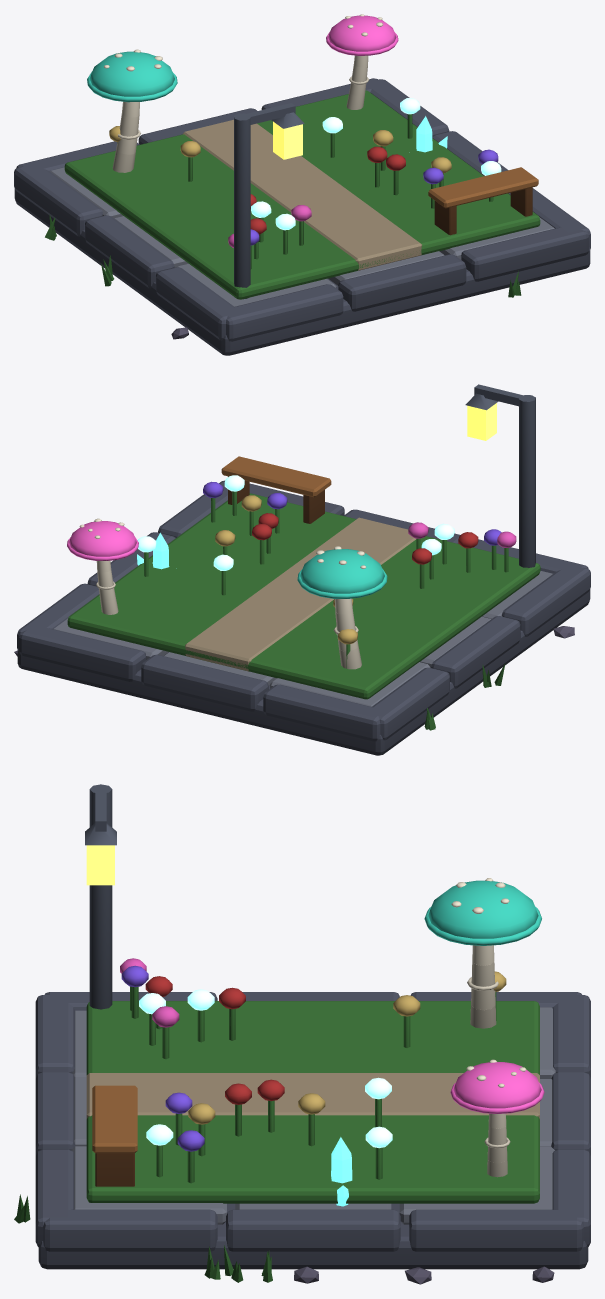
The model's file is flower_garden.glb.
3 renders of one model, top to bottom at view 1: azimuth 30°, elevation 25°; view 2: azimuth 150°, elevation 25°; view 3: azimuth 270°, elevation 25°, orthographic. The views are drawn at different scales.
Visible parts, largest first — view 1: t0_moss, t0_stone_dark, t0_stone_warm, t0_stone, t0_iron, t0_mushroom_teal, t0_wood, t1_mushroom_pink, t0_mushroom_stem, t0_glow_teal, t0_wood_dark, t1_mushroom_stem (+5 smaller); view 2: t0_moss, t0_stone_dark, t0_stone_warm, t0_stone, t0_iron, t0_mushroom_teal, t0_wood, t1_mushroom_pink, t0_glow_teal, t0_mushroom_stem, t0_cloth_red, t1_mushroom_stem (+6 smaller); view 3: t0_moss, t0_stone_dark, t0_stone_warm, t0_stone, t0_mushroom_teal, t0_iron, t1_mushroom_pink, t0_wood, t0_mushroom_stem, t0_glow_teal, t0_cloth_red, t0_straw (+7 smaller).
Part boxes in pixels (x1=…): t0_moss: x1=45, y1=90, x2=540, y2=299; t0_stone_dark: x1=14, y1=78, x2=590, y2=355; t0_stone_warm: x1=182, y1=119, x2=421, y2=270; t0_stone: x1=50, y1=167, x2=554, y2=306; t0_iron: x1=234, y1=103, x2=304, y2=299; t0_mushroom_teal: x1=87, y1=51, x2=177, y2=102; t0_wood: x1=428, y1=167, x2=538, y2=208; t1_mushroom_pink: x1=326, y1=15, x2=398, y2=55; t0_mushroom_stem: x1=104, y1=49, x2=162, y2=172; t0_glow_teal: x1=251, y1=98, x2=501, y2=230; t0_wood_dark: x1=434, y1=187, x2=532, y2=235; t1_mushroom_stem: x1=345, y1=14, x2=382, y2=109; t0_moss: x1=67, y1=491, x2=540, y2=730; t0_stone_dark: x1=17, y1=480, x2=590, y2=755; t0_stone_warm: x1=185, y1=517, x2=415, y2=671; t0_stone: x1=53, y1=571, x2=552, y2=706; t0_iron: x1=465, y1=384, x2=535, y2=567; t0_mushroom_teal: x1=297, y1=549, x2=387, y2=598; t0_wood: x1=221, y1=456, x2=331, y2=497; t1_mushroom_pink: x1=67, y1=521, x2=138, y2=560; t0_glow_teal: x1=137, y1=475, x2=454, y2=570; t0_mushroom_stem: x1=316, y1=546, x2=366, y2=669; t0_cloth_red: x1=252, y1=513, x2=478, y2=564; t1_mushroom_stem: x1=79, y1=518, x2=124, y2=614; t0_moss: x1=14, y1=986, x2=539, y2=1282; t0_stone_dark: x1=35, y1=992, x2=590, y2=1269; t0_stone_warm: x1=86, y1=1073, x2=539, y2=1118; t0_stone: x1=71, y1=1007, x2=555, y2=1224; t0_mushroom_teal: x1=424, y1=880, x2=541, y2=945; t0_iron: x1=85, y1=784, x2=116, y2=1009; t1_mushroom_pink: x1=450, y1=1062, x2=544, y2=1113; t0_wood: x1=92, y1=1085, x2=137, y2=1153; t0_mushroom_stem: x1=451, y1=878, x2=509, y2=1028; t0_glow_teal: x1=139, y1=989, x2=392, y2=1148; t0_cloth_red: x1=145, y1=976, x2=284, y2=1104; t0_straw: x1=188, y1=971, x2=506, y2=1124.
Bounding box in the file's own units: 2.12 × 1.09 × 2.04.
